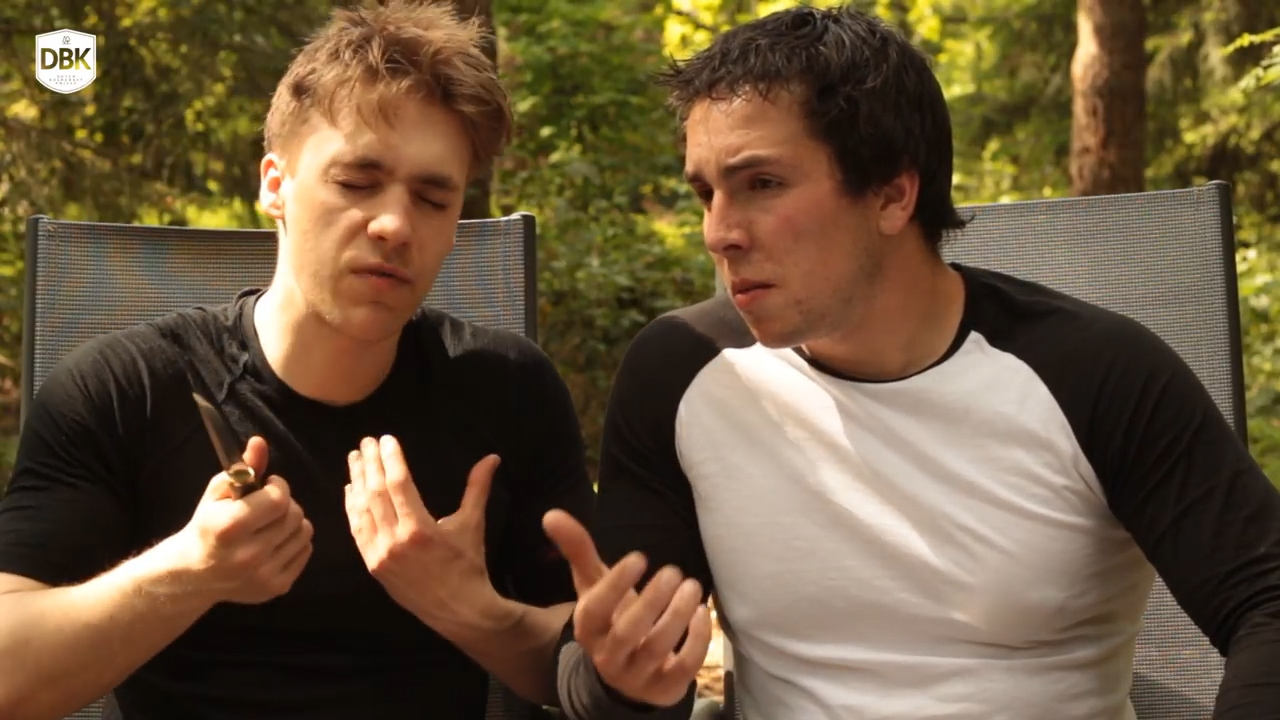knife: (172, 371, 322, 584)
